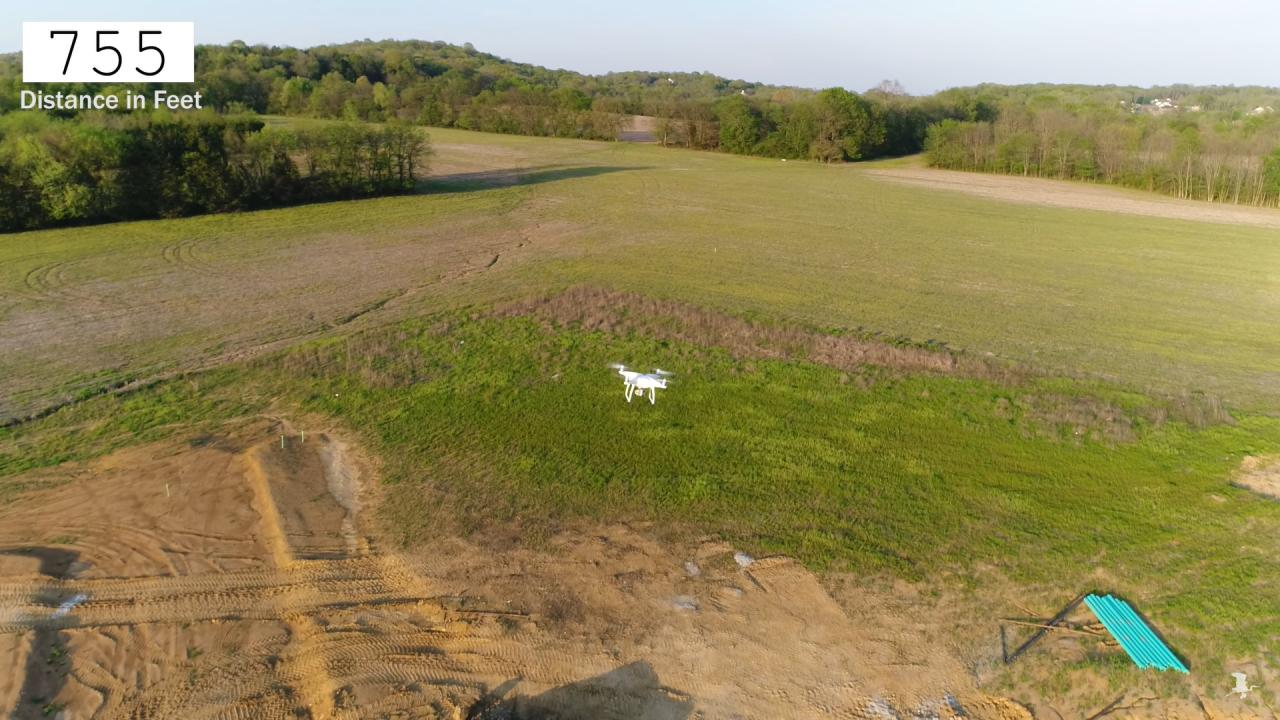Drone: (601, 354, 685, 417)
